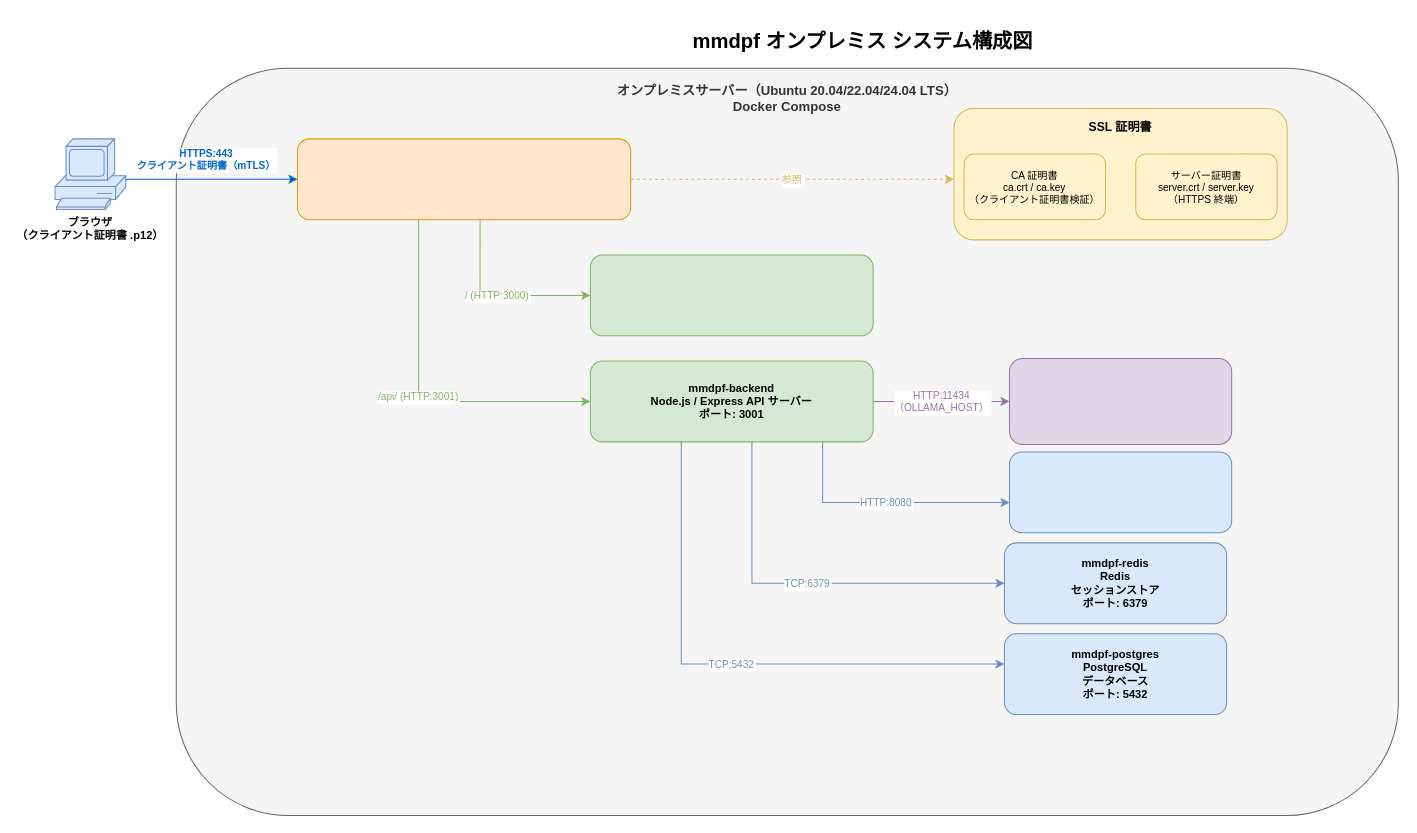
Image size: 1417x833. Some labels were removed from this diagram. The shapes that lost their labels are listed below. From the top down, each one's box as (x1, y1, x2, y2) in pixels, then its label:
(296, 138, 631, 220): mmdpf-nginx リバースプロキシ / mTLS クライアント証明書認証 ポート: 80 (HTTP), 443 (HTTPS)
(589, 254, 873, 336): mmdpf-frontend Next.js フロントエンド ポート: 3000
(1008, 358, 1232, 444): mmdpf-ollama Ollama AI Model Engine （セマンティック検索） ポート: 11434
(1008, 451, 1232, 533): mmdpf-swift OpenStack Swift オブジェクトストレージ ポート: 8080
